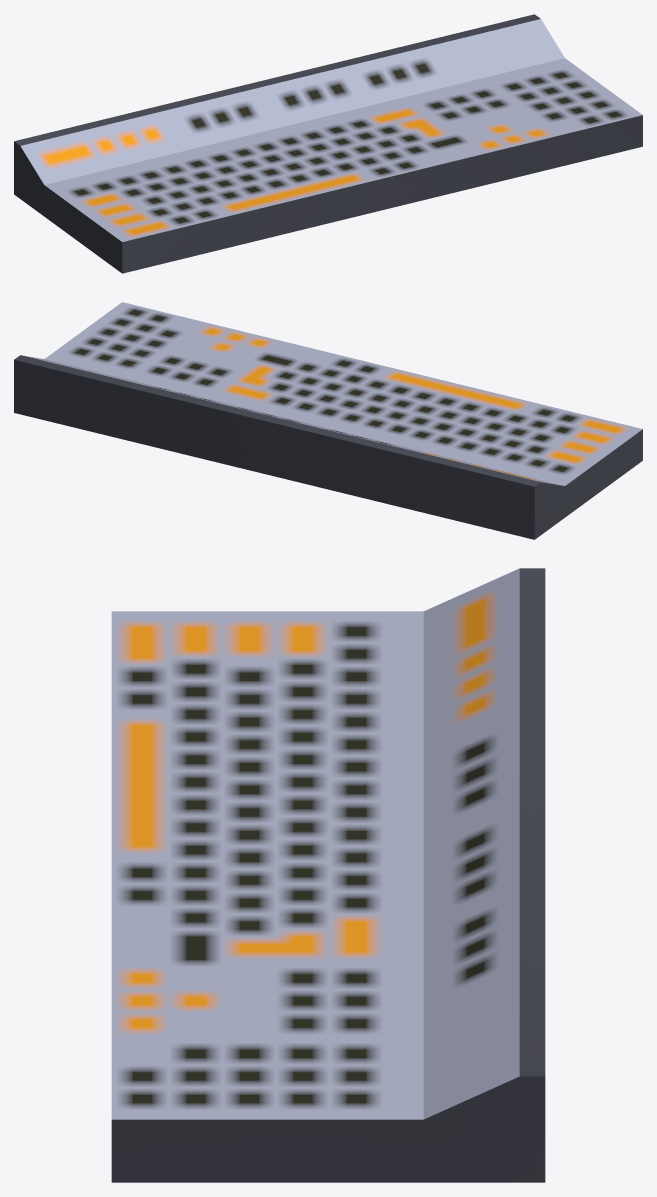
File: Keyboard.fbx
3 views of the same model, one above another, from view 1: azimuth 30°, elevation 25°; view 2: azimuth 150°, elevation 25°; view 3: azimuth 270°, elevation 25° (orthographic). The views are drawn at different scales.
Parts seen in each view (by area): view 1: Куб.072; view 2: Куб.072; view 3: Куб.072.
Boxes of the visible parts, x1,y1,x2,y2 form: Куб.072: [14, 14, 642, 273]; Куб.072: [14, 302, 642, 539]; Куб.072: [111, 568, 545, 1182].
Bounding box in the file's own units: 82.15 × 8.01 × 29.61.
